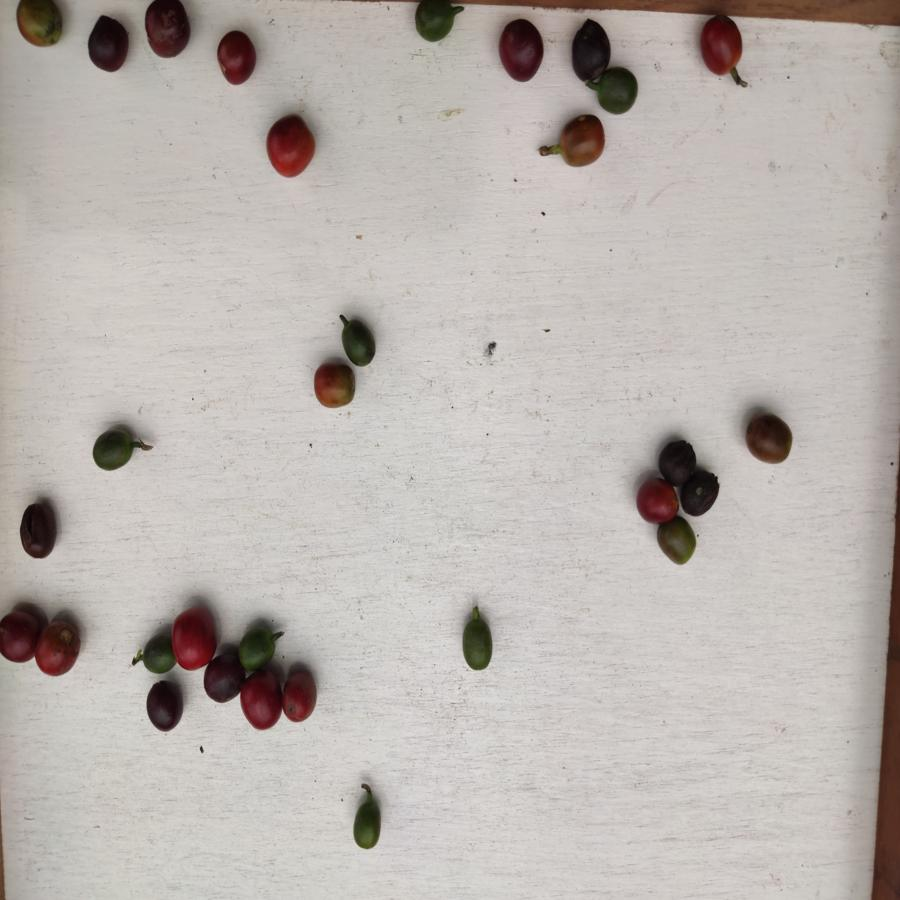Inmaduro: (413, 1, 472, 47), (454, 616, 502, 671), (90, 428, 138, 475), (239, 623, 285, 667), (348, 800, 386, 852), (341, 318, 382, 366), (598, 67, 638, 114), (144, 636, 174, 671)
Maduro: (260, 113, 321, 178), (695, 14, 748, 82), (36, 616, 87, 681), (170, 607, 216, 657), (637, 479, 670, 521)
Pinton: (742, 413, 800, 465), (560, 114, 604, 172), (312, 364, 359, 412), (16, 1, 64, 48), (653, 515, 702, 561)
Sobremaduro: (495, 15, 544, 86), (85, 11, 132, 78), (144, 1, 193, 58), (214, 26, 261, 85), (139, 680, 188, 734), (570, 15, 611, 76), (235, 677, 284, 728), (16, 502, 58, 559), (280, 671, 321, 724), (1, 610, 35, 668), (682, 467, 722, 516), (200, 659, 241, 705), (658, 438, 696, 485)
